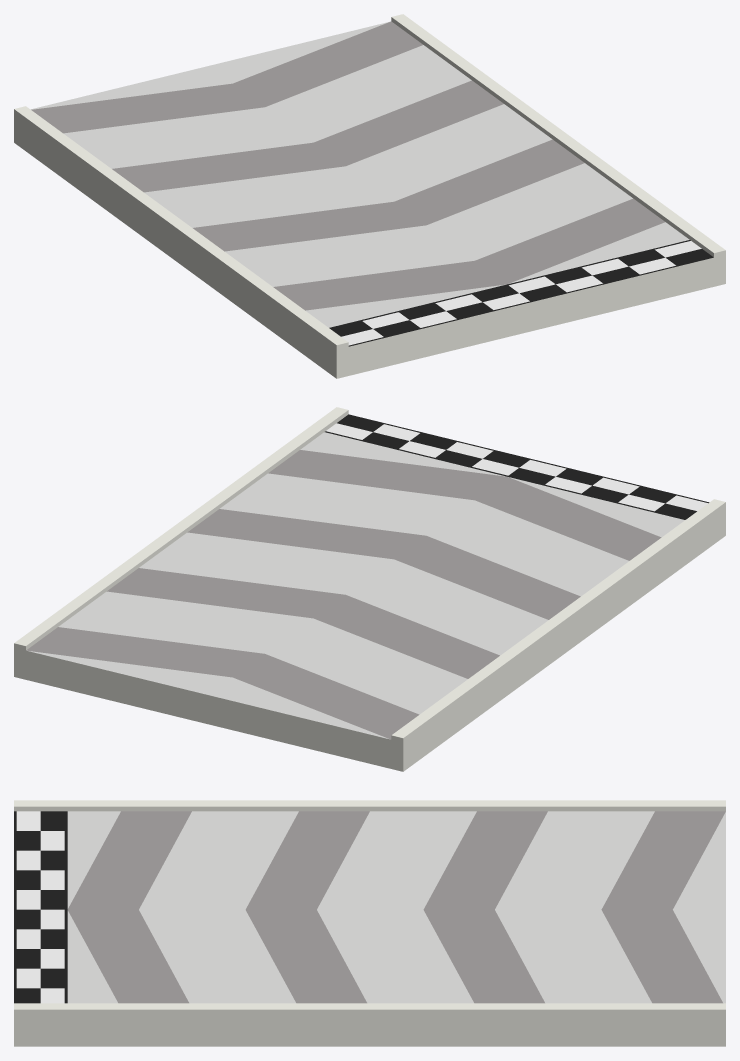
File: platform_finishline.fbx
3 renders of one model, top to bottom at view 1: azimuth 30°, elevation 25°; view 2: azimuth 150°, elevation 25°; view 3: azimuth 270°, elevation 25°, orthographic. The views are drawn at different scales.
Parts seen in each view (by area): view 1: Platform.finish line, finish line; view 2: Platform.finish line, finish line; view 3: Platform.finish line, finish line.
Part boxes in pixels (x1,y1,x2,y2): Platform.finish line: (14, 14, 701, 360); finish line: (312, 232, 725, 378); Platform.finish line: (14, 425, 701, 771); finish line: (313, 407, 725, 552); Platform.finish line: (67, 800, 725, 1046); finish line: (14, 800, 67, 1046).
Bounding box in the file's own units: 27.84 × 2.3 × 39.99.
Materials: 3 (1 with a texture image).
